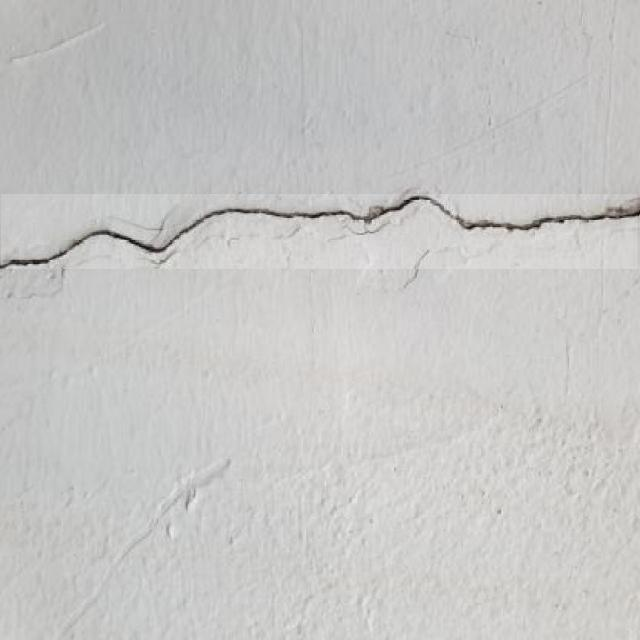horizontal crack: (1, 194, 637, 269)
